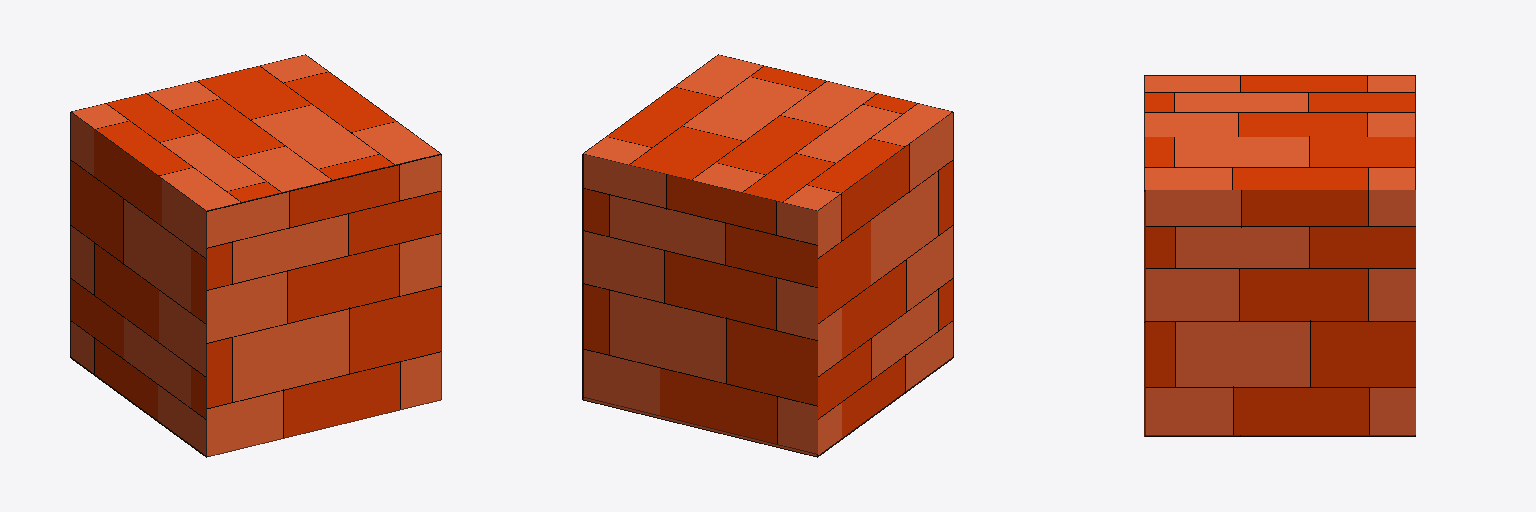
3 renders of one model, left to right at view 1: azimuth 30°, elevation 25°; view 2: azimuth 150°, elevation 25°; view 3: azimuth 270°, elevation 25°, orthographic.
Visible parts, largest first — view 1: Cube; view 2: Cube; view 3: Cube.
Part boxes in pixels (x1,y1,x2,y2): Cube: (70, 54, 441, 457); Cube: (582, 54, 953, 457); Cube: (1144, 75, 1415, 436).
Bounding box in the file's own units: 2 × 2 × 2.
1 materials, 1 textured.